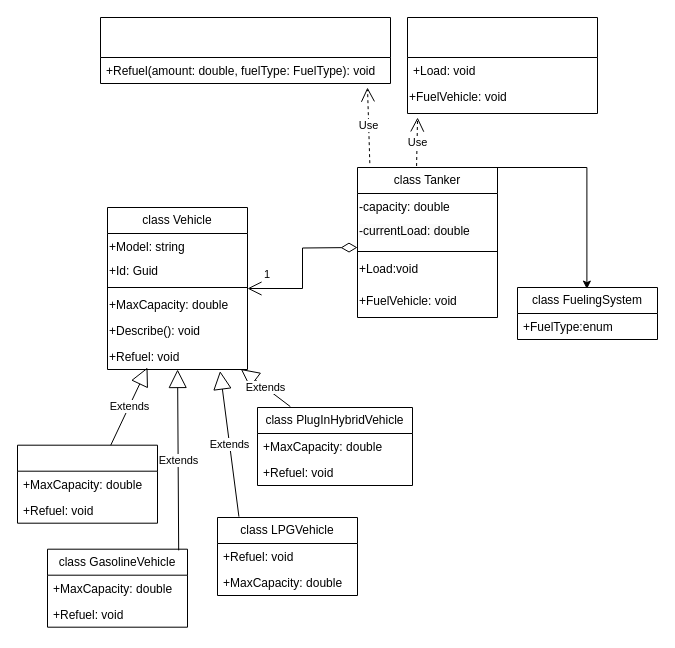
The diagram is 675 pixels wide and 648 high, and some of its shapes have lost their labels. Each missing label, with the box of its shape:
<<interface>> IFuelable: (100, 16, 390, 84)
<<interface>> ITanker: (406, 16, 598, 114)
class DieselVehicle: (16, 444, 158, 523)
